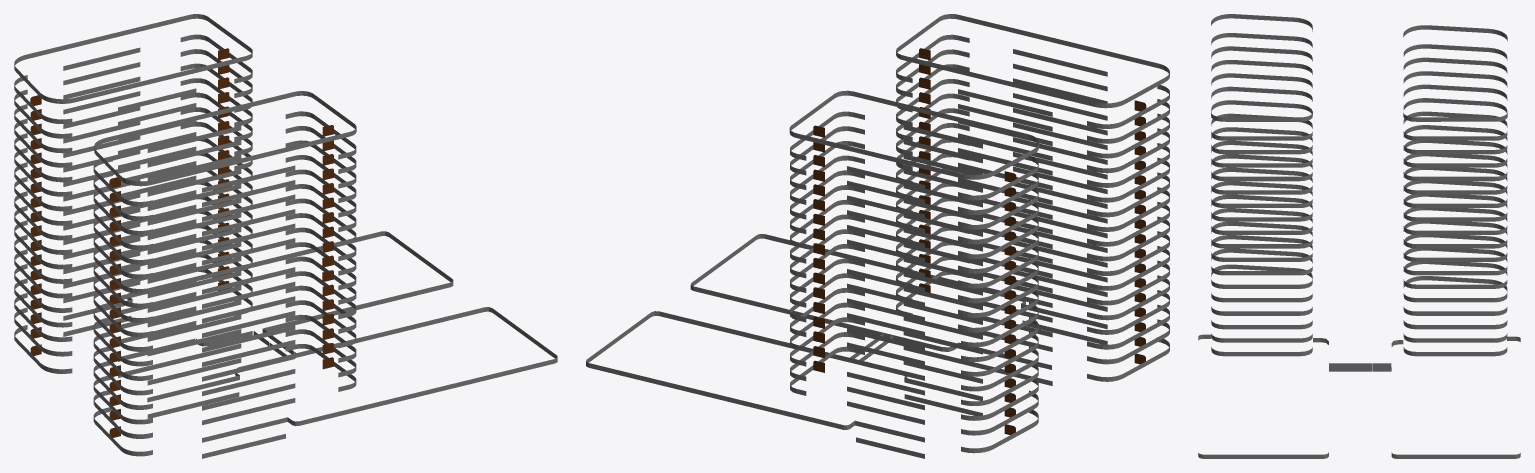
Rendered from SM_RailingGlass 1.fbx.
3 views of the same model, side by side, from view 1: azimuth 30°, elevation 25°; view 2: azimuth 150°, elevation 25°; view 3: azimuth 270°, elevation 25° (orthographic). The views are drawn at different scales.
Parts seen in each view (by area): view 1: SM_RailingGlass; view 2: SM_RailingGlass; view 3: SM_RailingGlass.
Part boxes in pixels (x1,y1,x2,y2): SM_RailingGlass: (14,14,557,458); SM_RailingGlass: (586,14,1169,458); SM_RailingGlass: (1198,14,1520,458).
Bounding box in the file's own units: 10765 × 7128 × 7721.
